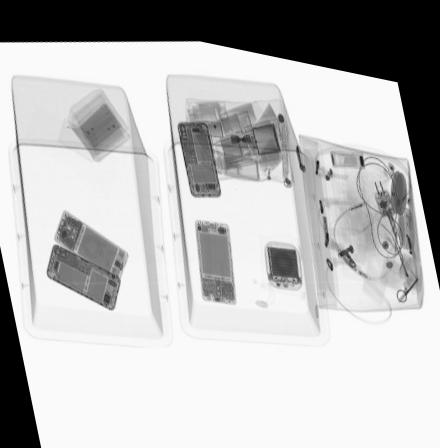Powerbank: (264, 229, 303, 280)
